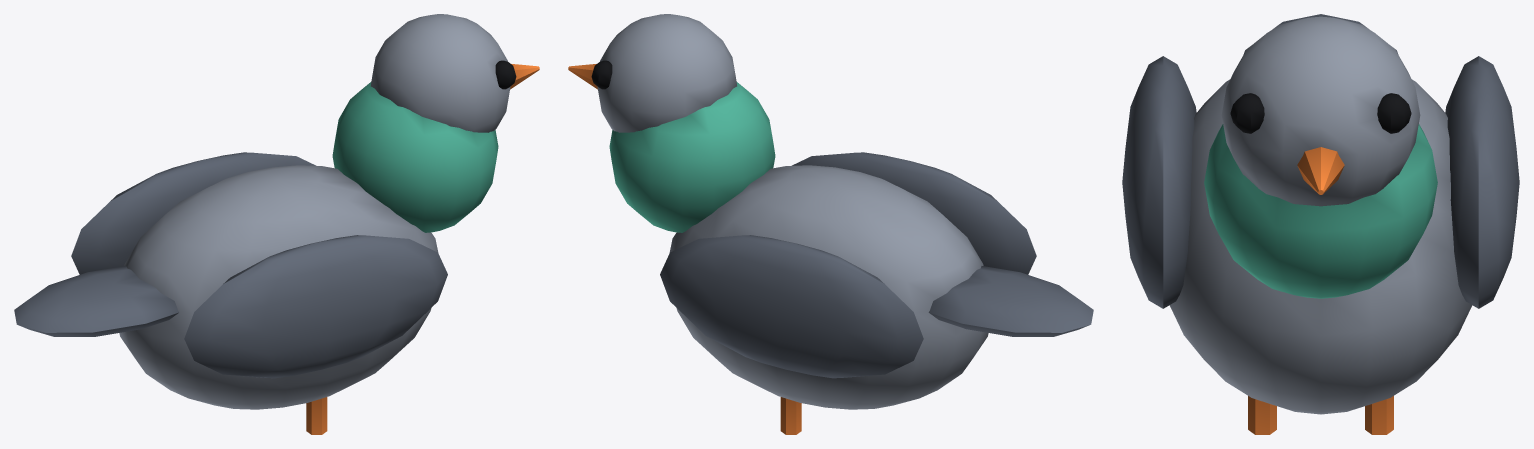
The model's file is ct_pigeon.glb.
The picture shows the model from 3 angles, left to right: view 1: azimuth 30°, elevation 25°; view 2: azimuth 150°, elevation 25°; view 3: azimuth 270°, elevation 25°; orthographic projection. The views are drawn at different scales.
Visible parts, largest first — view 1: ct_pigeon; view 2: ct_pigeon; view 3: ct_pigeon.
Part boxes in pixels (x1,y1,x2,y2): ct_pigeon: (14, 14, 539, 434); ct_pigeon: (568, 14, 1093, 434); ct_pigeon: (1122, 14, 1519, 434).
Size of the model in its own units: 1.44 by 0.95 by 0.68.
